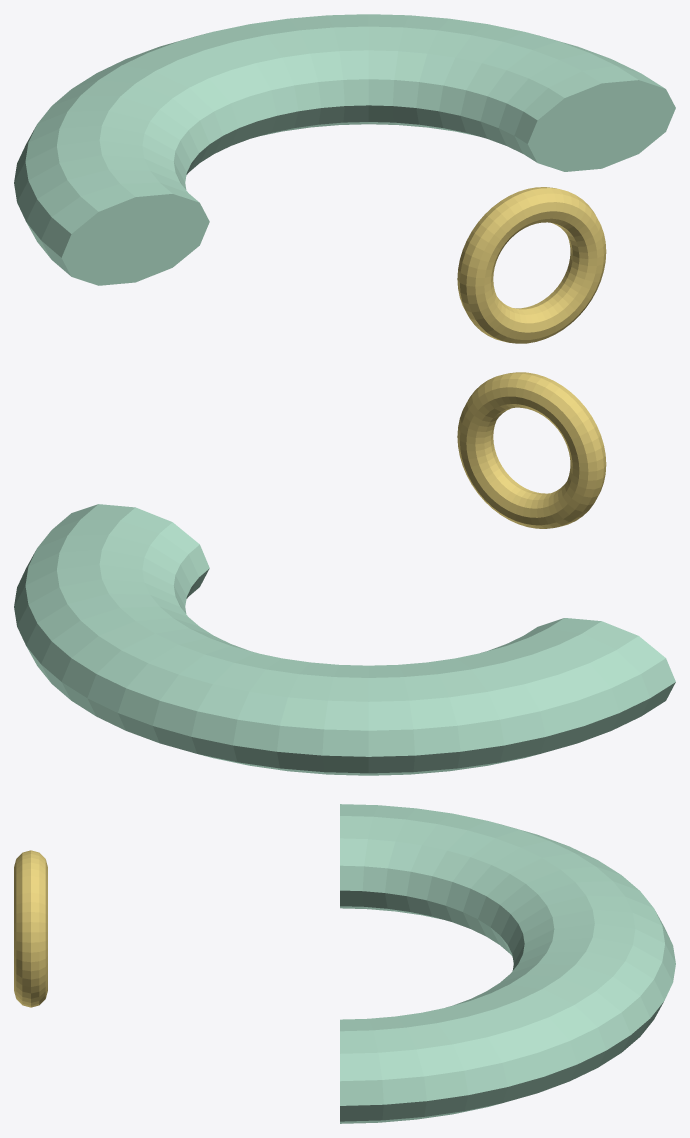
Rendered from half_jade.glb.
3 renders of one model, top to bottom at view 1: azimuth 30°, elevation 25°; view 2: azimuth 150°, elevation 25°; view 3: azimuth 270°, elevation 25°, orthographic. The views are drawn at different scales.
Parts seen in each view (by area): view 1: half_jade; view 2: half_jade; view 3: half_jade.
Boxes of the visible parts, bbox=[...] form: half_jade: bbox=[14, 14, 675, 343]; half_jade: bbox=[14, 372, 675, 775]; half_jade: bbox=[14, 804, 675, 1123].
Size of the model in its own units: 0.087 by 0.021 by 0.0857.
